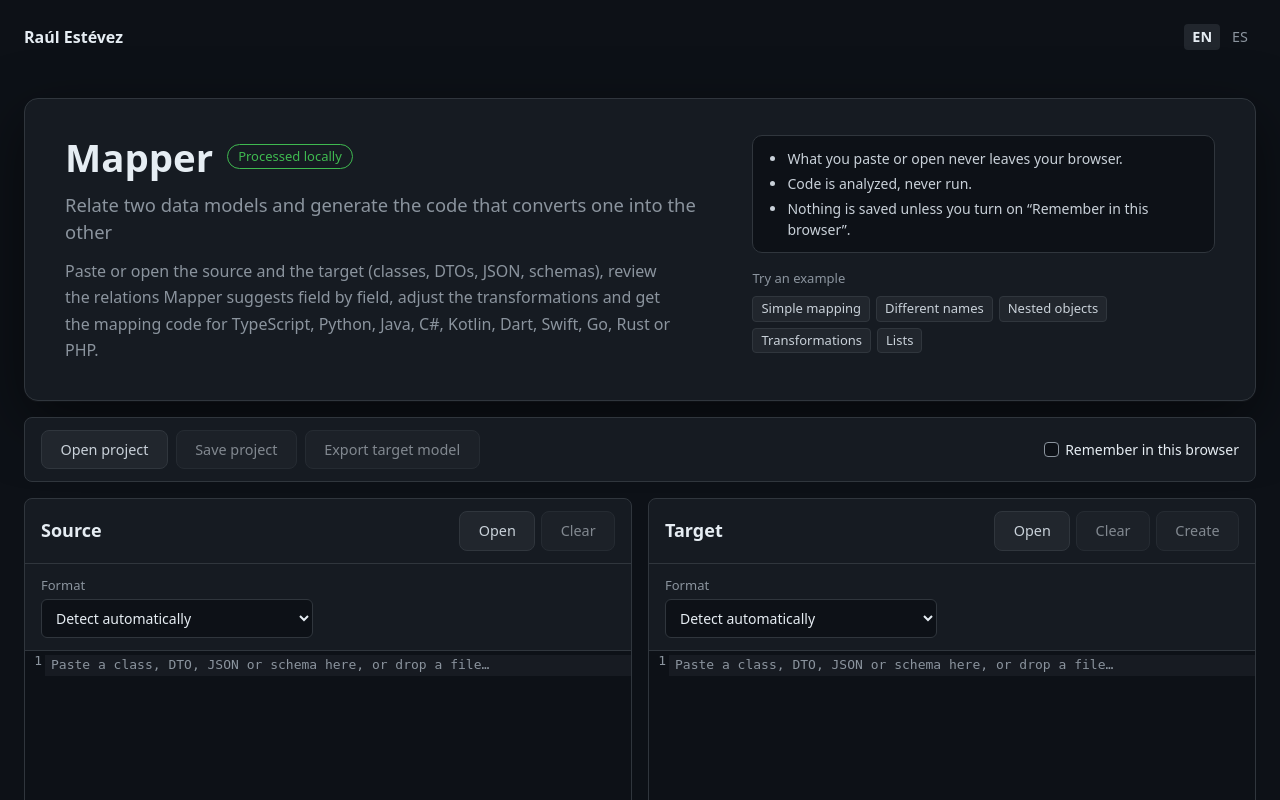
Mapper › loads an example, suggests relations and generates code
Click the button "Simple mapping" at x=811, y=309, box [752, 296, 870, 322]
(page scrolled)
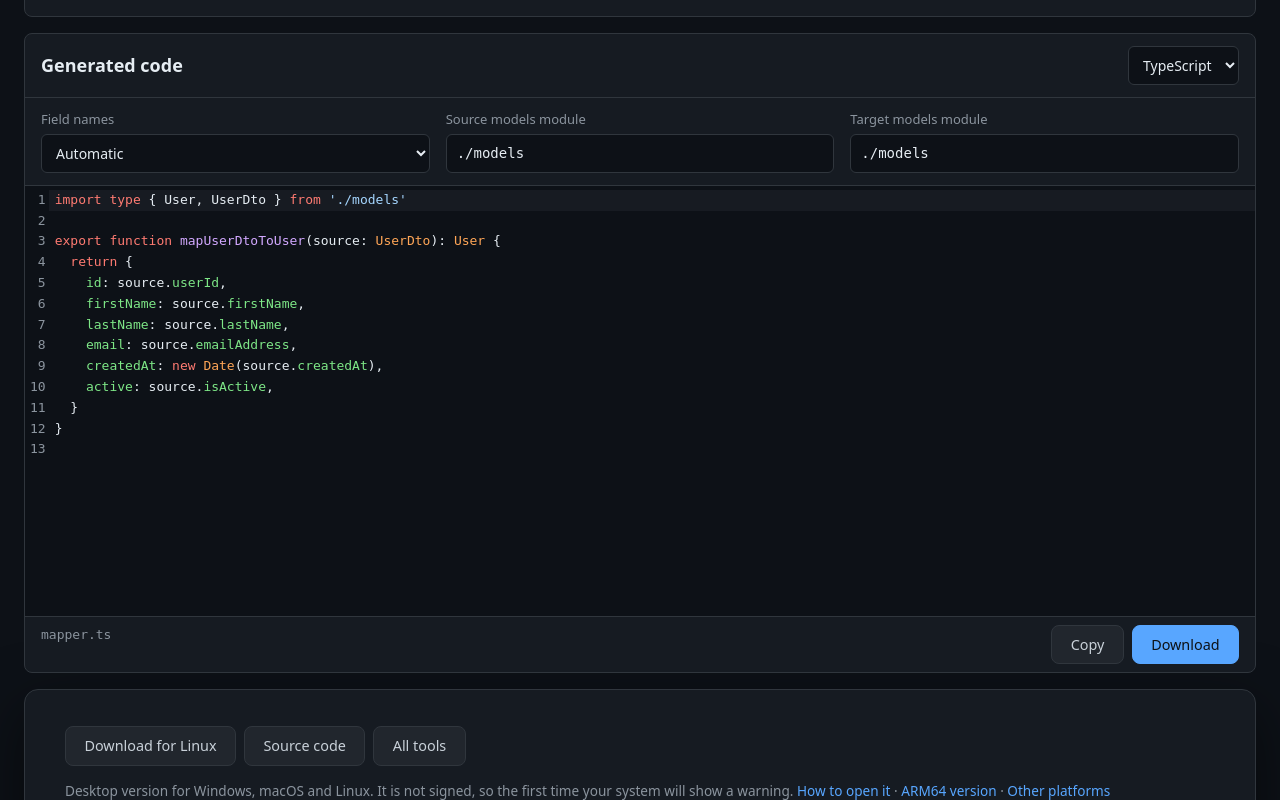
Now the field with class "cm-content" shows "export function mapUserDtoToUser(source: UserDto): User", box [49, 190, 1255, 436]
Now the field with class "cm-content" shows "email: source.emailAddress", box [49, 190, 1255, 436]
